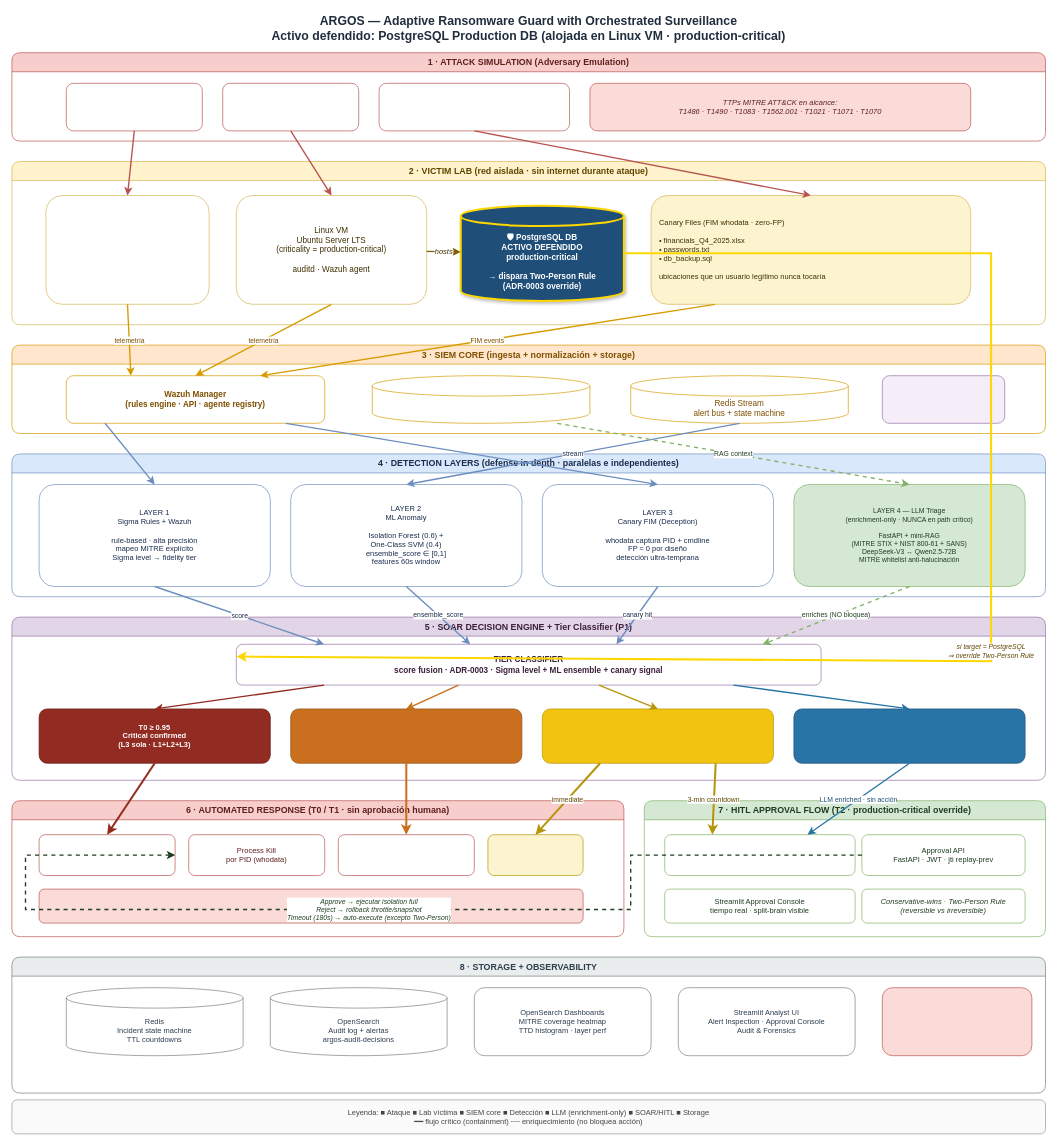
The diagram is 1057 pixels wide and 1146 high, and some of its shapes have lost their labels. The centre of each missing label's shape, as x and y in pixels:
argos_contracts (Pydantic v2): point 943,399
Atomic Red Team (MITRE TTPs 1-a-1): point 134,107
Caldera (MITRE) Adversary chains: point 290,107
Custom Ransomware Simulator (Python · AES-256 · reproducible): point 474,107
Disk Snapshot VSS / dd · forense: point 406,855
Email / Slack post-facto (T0/T1) con botón "Revert" firmado JWT: point 310,905
External Heartbeat (cron + curl · SAD §13.6) monitorea Wazuh/Redis/OS/FastAPI: point 957,1021
Host Isolation iptables / firewall: point 106,855
Multi-channel Notifications Telegram (botones inline) · Discord · Twilio Voice: point 759,855
OpenSearch Indexer alertas + audit log: point 481,399
Process Throttle cpulimit / ionice: point 535,855
T1 0.80–0.95 High confirmed (L1 + L2 corroboran): point 406,735
T2 0.60–0.80 Medium uncertain (L1 high-fidelity sola · L2 high score): point 658,735
T3 0.40–0.60 Low uncertain (L1 experimental · L2 medium): point 909,735
Windows VM Win 10/11 Sysmon (whodata) Wazuh agent: point 127,249
